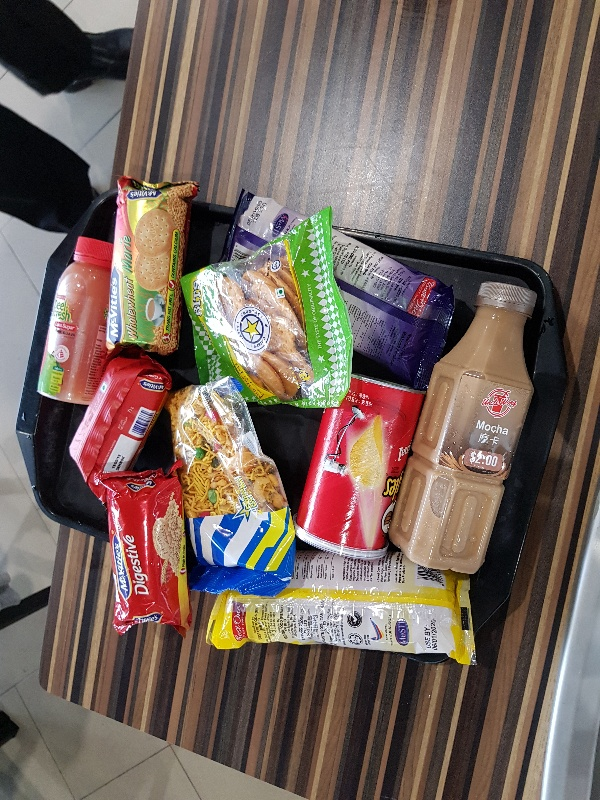Marigold Peel Fresh Pink Guava Juice Drink: (35, 232, 112, 407)
McVitie's Wholewheat Marie: (106, 174, 200, 357)
Mcvitie's Digestive: (89, 460, 193, 632), (69, 353, 172, 483)
Mocha: (387, 280, 539, 576)
Pringles Original: (292, 372, 427, 560)
Star Tidbits 'O' Ring: (177, 205, 352, 407)
Star Tidbits Mixer: (164, 377, 298, 599)
Tinges Roll Chocolate: (223, 188, 457, 384)
Tinges Roll Sweet Corn: (205, 550, 477, 666)
